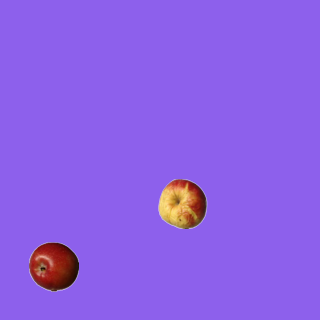Apple Braeburn: (28, 241, 78, 291)
Apple Red Yellow 1: (157, 178, 207, 228)
